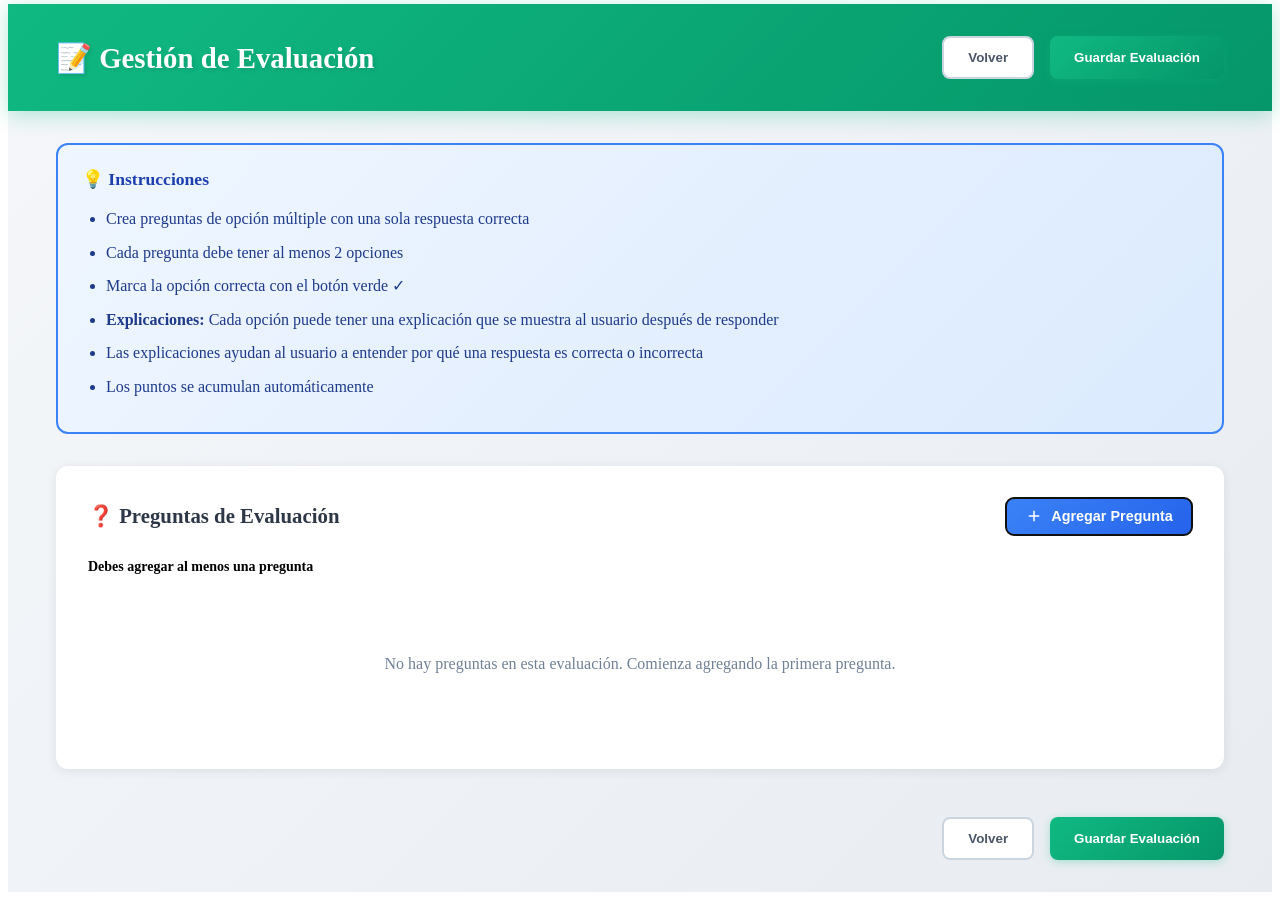
Test: EvaluacionFormComponent › sin preguntas: error junto a la lista y foco en Agregar Pregunta; se va al agregar una
What coordinates should you click on to do the following:
click the button with id "evaluacion-agregar-pregunta"
I would click on:
 (1099, 516)
Its box is [1006,498,1192,535].
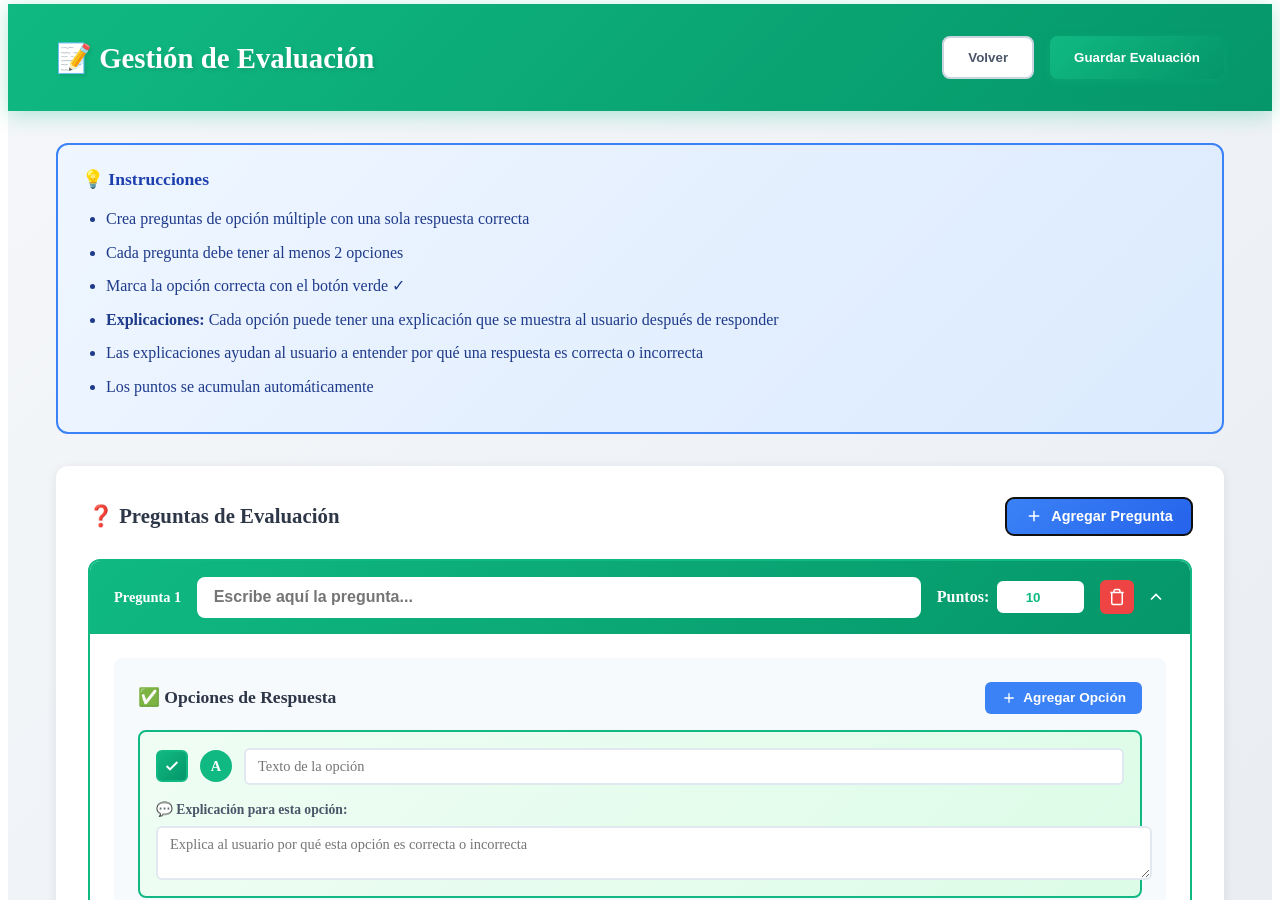
expect the text with id "evaluacion-sin-preguntas" is gone: met
